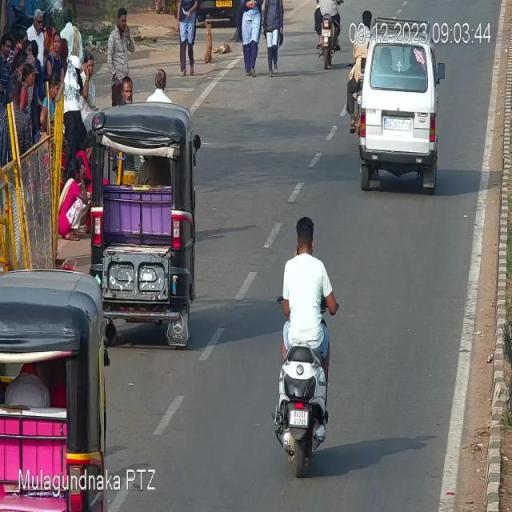using mobile: (291, 232, 302, 258)
